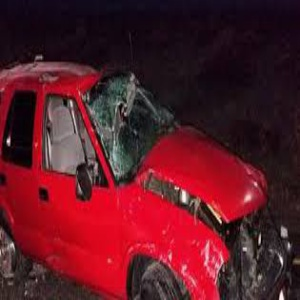bonnet: (182, 143, 272, 226)
front_windshield_glass: (92, 83, 168, 155)
